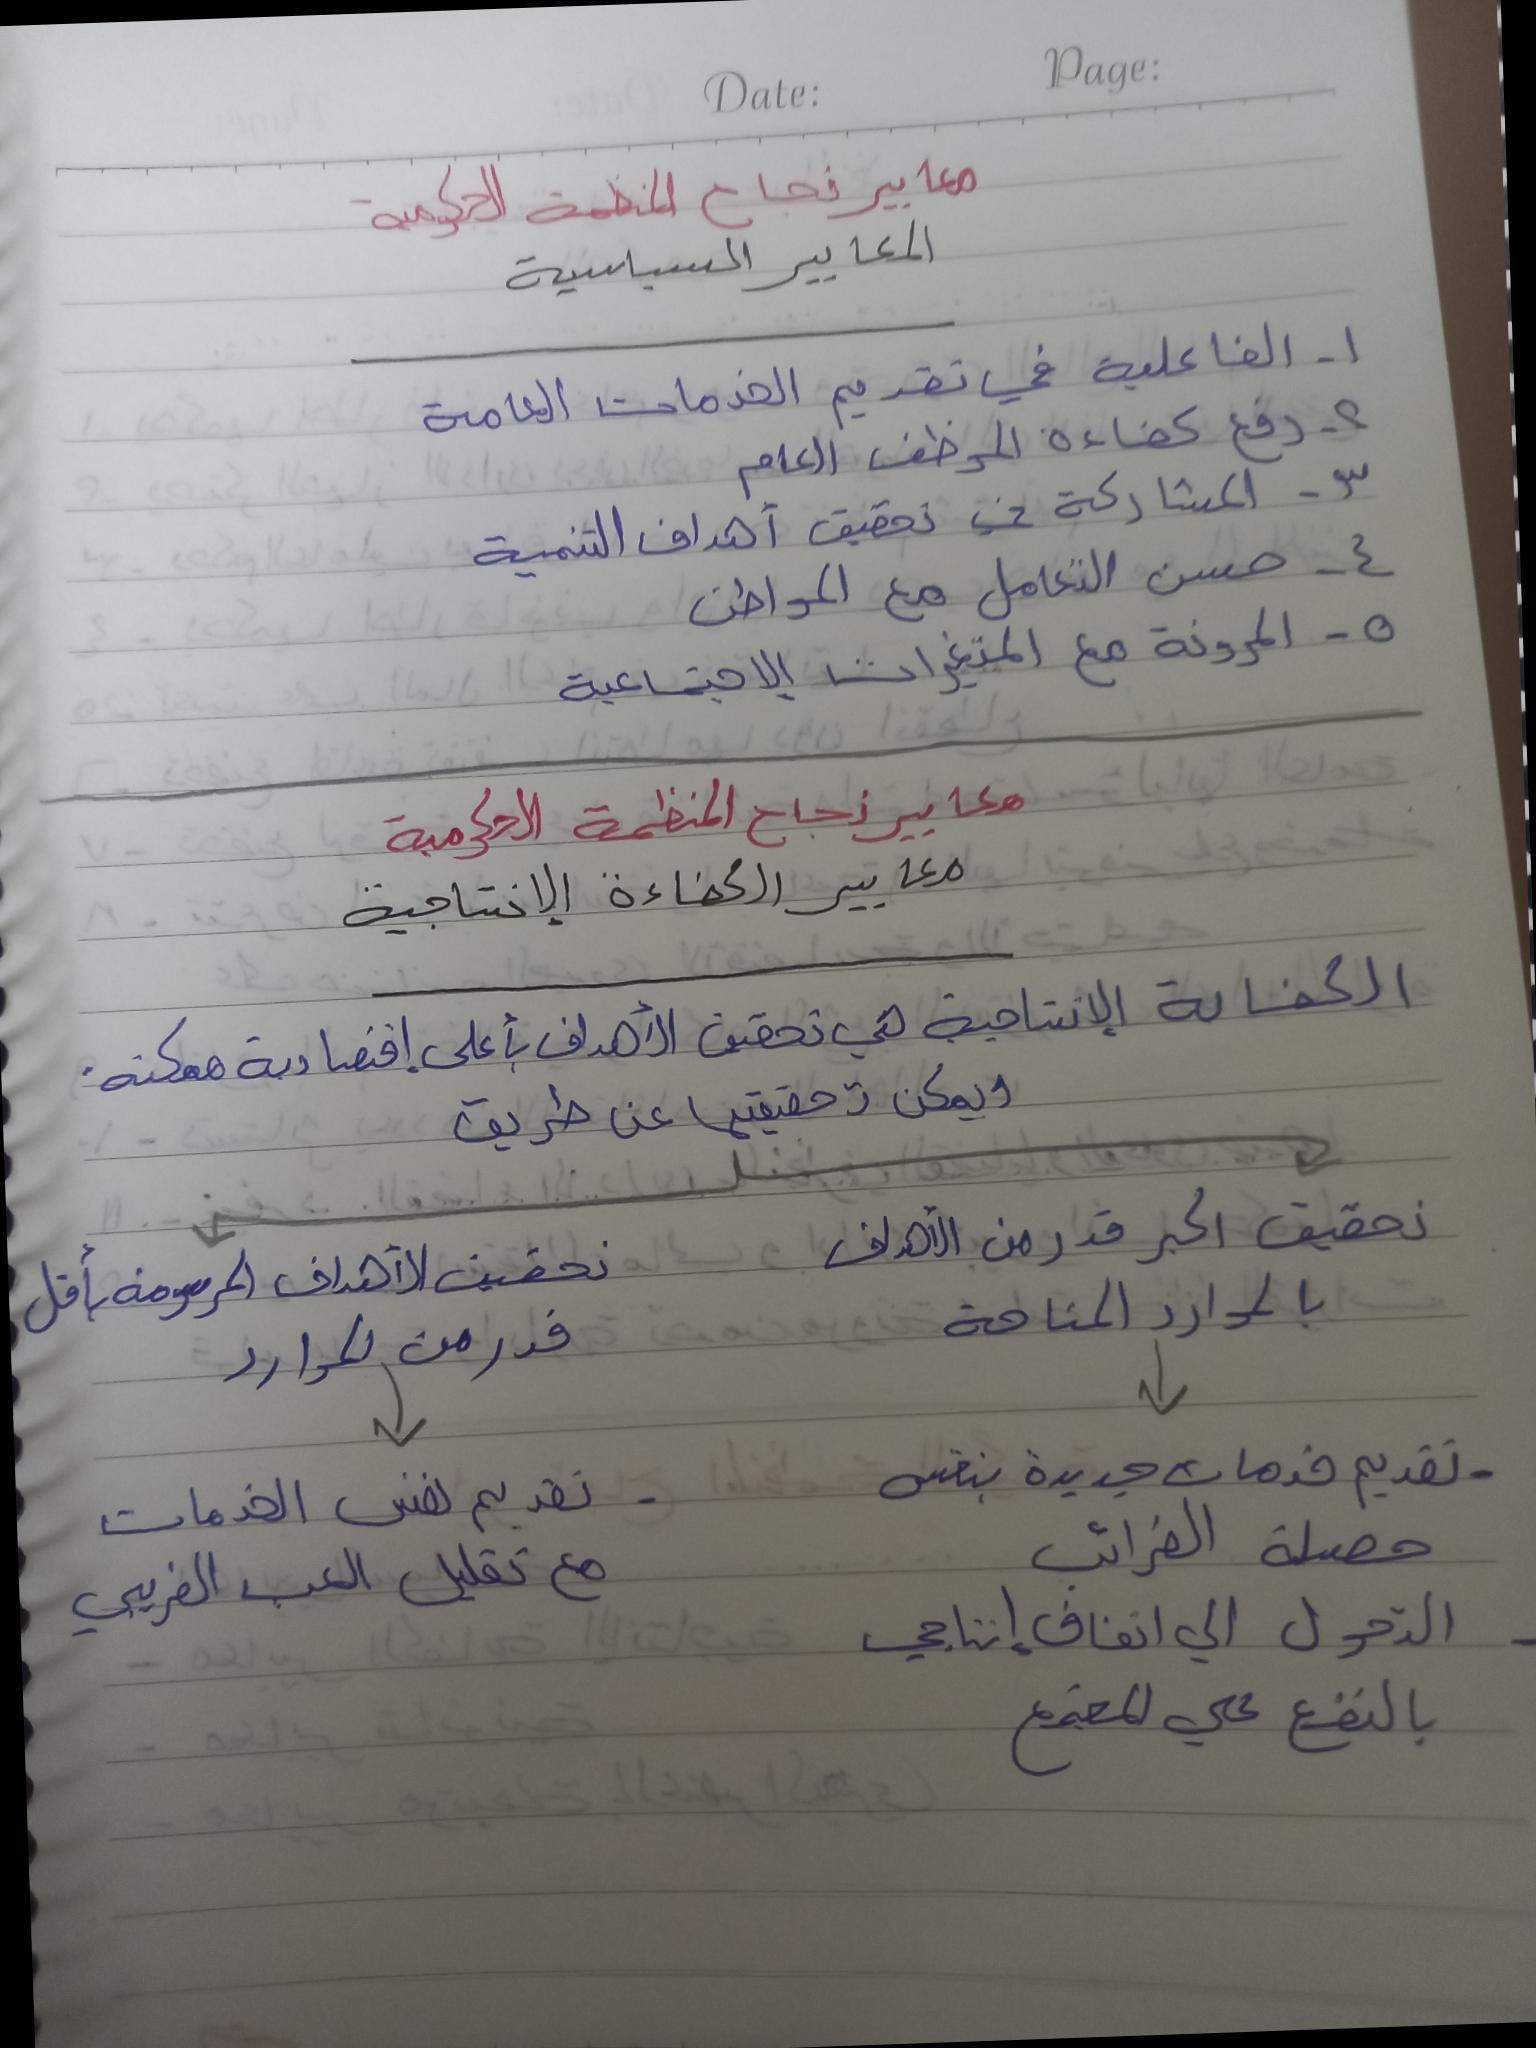19: (73, 1579, 134, 1635), (850, 1637, 947, 1669), (1163, 1709, 1226, 1750), (979, 377, 1055, 403), (418, 1032, 465, 1072), (1162, 1627, 1218, 1659), (966, 516, 1033, 543), (831, 1024, 884, 1056), (636, 247, 666, 295), (886, 168, 915, 218), (852, 361, 873, 426), (520, 539, 550, 582), (1313, 1208, 1341, 1256), (1373, 1435, 1391, 1505), (970, 1069, 989, 1127), (1065, 1451, 1086, 1503), (800, 240, 821, 289), (1133, 347, 1155, 390), (920, 792, 941, 839), (845, 871, 868, 913), (492, 1466, 510, 1519), (866, 863, 886, 911), (395, 895, 415, 943), (502, 1106, 521, 1151), (423, 826, 445, 863), (820, 240, 837, 287), (902, 793, 918, 843), (563, 258, 581, 298), (600, 669, 615, 710), (737, 1026, 753, 1061)
21: (813, 1216, 883, 1271), (266, 1256, 329, 1298), (868, 432, 931, 474), (636, 513, 691, 558), (537, 1009, 578, 1063), (1275, 971, 1320, 1016), (1326, 1684, 1360, 1730), (1229, 326, 1263, 371), (1102, 1608, 1133, 1655), (1029, 335, 1062, 377), (1134, 410, 1168, 448), (994, 484, 1031, 518), (1252, 390, 1275, 442), (692, 866, 720, 908), (416, 1464, 437, 1519), (949, 1440, 970, 1476)
22: (1083, 419, 1102, 461), (642, 872, 663, 910)
23: (1250, 1197, 1315, 1251), (1031, 1588, 1083, 1653), (541, 1303, 589, 1356), (452, 1092, 502, 1142), (695, 1005, 737, 1063), (1412, 1427, 1441, 1488), (1094, 1193, 1126, 1247), (802, 505, 852, 539), (513, 1245, 550, 1290), (50, 1256, 82, 1308), (910, 355, 945, 402), (541, 1461, 566, 1514), (744, 1006, 773, 1053), (474, 1534, 500, 1585), (1336, 1195, 1362, 1245), (868, 495, 891, 540), (778, 1077, 805, 1114), (750, 1082, 773, 1121)
24: (1326, 948, 1357, 1011), (1181, 1174, 1207, 1243), (720, 850, 755, 900), (1173, 403, 1207, 448), (923, 1058, 952, 1109), (158, 1008, 186, 1061), (1097, 463, 1123, 513), (468, 784, 499, 826), (434, 160, 455, 216)
25: (1304, 1429, 1338, 1493), (244, 1453, 273, 1522), (737, 361, 773, 408)
26: (937, 629, 973, 663)
27: (524, 853, 565, 927), (1083, 969, 1115, 1039), (636, 997, 668, 1066), (387, 1240, 419, 1293), (745, 640, 779, 687), (929, 1192, 952, 1259)
28: (823, 640, 912, 690)
29: (1342, 1516, 1383, 1579), (339, 1039, 371, 1072)
30: (1171, 472, 1213, 513)
31: (95, 1493, 184, 1543), (594, 376, 678, 424), (1163, 1434, 1225, 1488), (419, 389, 458, 435), (839, 1069, 873, 1119), (566, 1463, 600, 1513), (1409, 1188, 1438, 1243), (594, 1227, 618, 1290), (1036, 989, 1065, 1037), (1068, 548, 1096, 598), (1441, 1427, 1462, 1488), (508, 1535, 529, 1592), (916, 490, 939, 540), (949, 352, 970, 405), (471, 884, 500, 921), (1392, 1603, 1415, 1650), (805, 1000, 826, 1048), (966, 1598, 983, 1655), (970, 631, 992, 669)
32: (547, 1079, 594, 1127), (728, 569, 765, 619)
33: (650, 782, 686, 835), (928, 418, 960, 468), (608, 168, 634, 223)
Alef: (999, 1571, 1036, 1658), (1391, 950, 1421, 1014), (1197, 1493, 1226, 1556), (762, 497, 791, 550), (552, 364, 578, 421), (1236, 971, 1265, 1021), (313, 1014, 336, 1077), (184, 1476, 208, 1530), (1007, 406, 1028, 466), (671, 368, 697, 416), (611, 493, 629, 563), (207, 1543, 227, 1600), (1150, 466, 1175, 514), (1208, 319, 1229, 374), (449, 874, 473, 921), (1433, 1592, 1455, 1642), (1025, 619, 1046, 671), (753, 166, 779, 208), (290, 1471, 310, 1526), (1147, 1592, 1165, 1651), (786, 352, 803, 411), (721, 774, 739, 832), (1291, 1269, 1312, 1317), (1141, 1669, 1157, 1730), (1223, 1584, 1238, 1651), (834, 556, 854, 606), (950, 774, 970, 824), (663, 164, 682, 214), (1105, 540, 1121, 600), (913, 642, 939, 679), (502, 381, 523, 426), (1110, 408, 1131, 453), (1405, 1674, 1423, 1727), (670, 861, 689, 910), (916, 150, 936, 197), (355, 1538, 373, 1588), (1244, 463, 1263, 508), (1113, 977, 1131, 1026), (1018, 980, 1034, 1034), (1231, 1437, 1249, 1485), (950, 1208, 965, 1266), (297, 1322, 311, 1379), (741, 234, 760, 276), (1118, 1514, 1136, 1559), (1118, 1272, 1131, 1334), (1279, 605, 1297, 648), (1212, 1201, 1226, 1255), (1084, 1600, 1099, 1653), (641, 669, 666, 698), (763, 569, 779, 614), (925, 218, 939, 268), (1281, 324, 1296, 373), (824, 434, 841, 477), (560, 860, 573, 913), (897, 853, 915, 890), (1037, 560, 1052, 603), (849, 232, 866, 268), (791, 790, 807, 829), (770, 861, 783, 908), (1042, 1292, 1058, 1329), (1205, 1279, 1220, 1317), (626, 244, 639, 284), (687, 506, 700, 545), (778, 437, 791, 476)
Alef Bkasra: (694, 177, 750, 231), (1383, 1513, 1431, 1564), (742, 795, 789, 848), (555, 1242, 594, 1285), (1239, 542, 1284, 579), (999, 1290, 1029, 1342), (1370, 1200, 1407, 1242), (773, 1006, 807, 1050), (807, 1079, 839, 1119), (1362, 1608, 1394, 1646), (458, 185, 489, 224), (492, 808, 523, 845), (891, 505, 916, 539)
Daa: (1023, 1534, 1102, 1593), (232, 1566, 315, 1611), (1305, 1276, 1333, 1332), (1417, 1695, 1439, 1751), (1165, 1219, 1184, 1263)
Eiin: (1279, 397, 1304, 458), (221, 1345, 257, 1380), (510, 1326, 537, 1359), (520, 1482, 542, 1517), (878, 377, 907, 405), (1154, 1300, 1178, 1332), (1394, 1453, 1412, 1493), (1089, 1459, 1112, 1490), (1078, 1216, 1094, 1255), (290, 1047, 310, 1077), (1049, 1456, 1066, 1488), (728, 384, 747, 413), (699, 529, 716, 555), (234, 1496, 248, 1527), (587, 1035, 602, 1059)
Five: (1150, 1508, 1179, 1559), (165, 1555, 190, 1605)
Four: (1005, 1693, 1071, 1782), (1070, 626, 1115, 693), (1286, 1684, 1326, 1759), (879, 569, 921, 627), (549, 1546, 582, 1605), (1236, 1671, 1265, 1727), (1223, 408, 1250, 456), (975, 772, 1002, 814), (316, 1556, 345, 1595), (1173, 339, 1199, 381), (645, 1090, 673, 1129), (1052, 553, 1073, 598), (920, 851, 942, 893), (936, 155, 958, 195), (521, 392, 547, 424), (478, 1014, 495, 1059), (871, 237, 900, 263), (616, 661, 641, 692), (792, 442, 815, 472)
Haa: (1117, 1445, 1160, 1503), (805, 792, 844, 842), (987, 993, 1023, 1043), (712, 656, 749, 703), (421, 884, 450, 930), (913, 1611, 949, 1638)
Lam: (352, 1242, 390, 1295), (723, 506, 760, 553), (605, 1011, 637, 1063), (715, 1100, 749, 1142), (878, 993, 907, 1039), (900, 1211, 929, 1256)
Meem: (602, 866, 636, 919), (110, 1259, 145, 1306)
Noon: (397, 1538, 463, 1608), (970, 552, 1016, 627), (19, 1253, 58, 1338), (1284, 1585, 1326, 1656), (1357, 943, 1383, 1026), (1178, 1490, 1205, 1564), (1257, 308, 1283, 368), (1204, 1675, 1234, 1724), (1379, 1666, 1399, 1738), (274, 1445, 289, 1524), (1296, 1508, 1313, 1571), (718, 231, 742, 276), (750, 856, 770, 911), (1207, 977, 1228, 1027), (192, 1545, 208, 1608), (594, 505, 611, 561), (1421, 1576, 1434, 1651), (1155, 329, 1175, 379), (1199, 1582, 1217, 1634), (771, 353, 786, 414), (1087, 537, 1102, 597), (1255, 1268, 1278, 1303), (1096, 1274, 1113, 1319), (466, 1008, 476, 1064), (905, 218, 918, 252)
Raa: (731, 442, 773, 498), (957, 153, 984, 213), (916, 571, 954, 610), (694, 373, 721, 423), (468, 1477, 490, 1534), (1250, 1450, 1284, 1487), (449, 1305, 473, 1356), (829, 374, 849, 439), (1354, 1443, 1371, 1513), (999, 779, 1034, 813), (581, 1542, 608, 1585), (1104, 627, 1134, 664), (942, 847, 965, 892), (628, 814, 658, 845), (203, 1043, 227, 1082), (481, 400, 507, 434), (1016, 568, 1041, 603), (1018, 1211, 1033, 1269), (207, 1484, 223, 1534), (442, 818, 468, 847), (587, 197, 613, 226), (181, 1048, 202, 1082), (949, 1077, 968, 1113), (552, 534, 573, 564), (150, 1272, 168, 1306), (1089, 1311, 1117, 1332), (413, 200, 434, 227), (1220, 498, 1244, 519), (1000, 647, 1025, 668), (1254, 631, 1276, 651), (1120, 1708, 1142, 1729), (1254, 1301, 1278, 1321), (681, 682, 707, 700), (697, 811, 723, 829), (337, 1353, 365, 1369), (897, 252, 921, 263)
Seen: (399, 1316, 447, 1367), (686, 584, 736, 631), (1141, 550, 1184, 600), (981, 1214, 1015, 1268), (1352, 1674, 1381, 1734), (605, 1095, 641, 1140), (894, 1077, 926, 1121), (132, 1042, 161, 1085), (820, 161, 849, 202), (1186, 613, 1208, 663), (1134, 1596, 1154, 1651), (984, 1613, 1005, 1659), (505, 879, 529, 919), (855, 780, 876, 822), (568, 522, 587, 568), (632, 177, 650, 223), (1062, 1290, 1078, 1330), (1070, 989, 1083, 1030)
Taa Marbota: (742, 264, 803, 297), (786, 884, 844, 916), (478, 1326, 503, 1384), (1039, 1221, 1065, 1271), (841, 827, 902, 848), (824, 200, 883, 221), (260, 1345, 282, 1397), (1178, 1297, 1202, 1338), (1136, 1232, 1165, 1266), (529, 1116, 557, 1148), (1123, 485, 1144, 526), (1236, 635, 1260, 669), (939, 661, 962, 697), (466, 830, 490, 863), (1141, 1545, 1155, 1584)
Waw: (331, 1485, 421, 1532), (865, 1458, 945, 1500), (1187, 545, 1238, 582), (668, 247, 720, 281), (582, 253, 626, 284)
Yaa: (502, 240, 563, 292), (921, 992, 975, 1047), (82, 1047, 137, 1100), (942, 1292, 994, 1347), (1149, 971, 1199, 1026), (523, 179, 578, 229), (568, 792, 620, 842), (352, 189, 402, 239), (339, 877, 387, 929), (458, 524, 511, 569), (1254, 1509, 1292, 1567), (1092, 342, 1134, 392), (381, 805, 426, 850), (232, 1029, 271, 1080), (1046, 479, 1092, 519), (558, 661, 595, 705), (1149, 621, 1187, 661), (1033, 418, 1071, 455), (1021, 1432, 1047, 1487)
Zero: (987, 1061, 1018, 1106), (963, 442, 991, 482), (1338, 1627, 1367, 1664), (1221, 1300, 1252, 1330), (434, 208, 460, 240), (781, 592, 810, 619), (311, 1359, 332, 1395), (1215, 634, 1236, 666)
